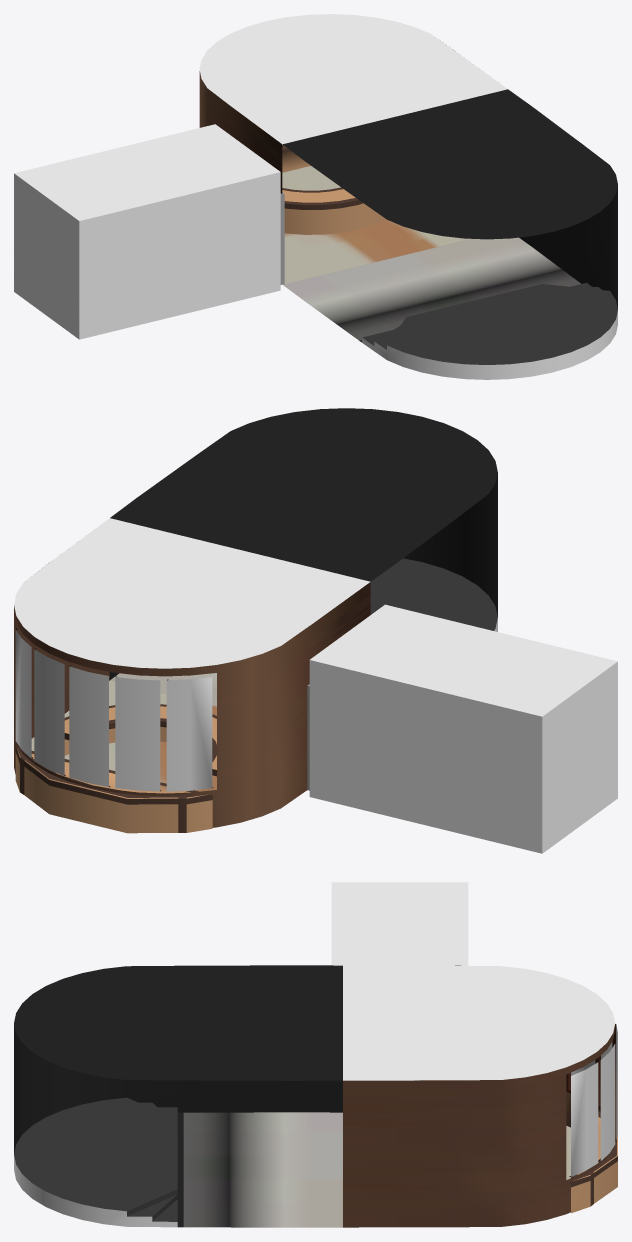
The model's file is newnewstation 1.fbx.
The picture shows the model from 3 angles, top to bottom: view 1: azimuth 30°, elevation 25°; view 2: azimuth 150°, elevation 25°; view 3: azimuth 270°, elevation 25°; orthographic projection. The views are drawn at different scales.
Visible parts, largest first — view 1: Building, HallWay, FilmFloor, DeskFloor, FilmWall, FrontDesk, DeskWall; view 2: Building, HallWay, DeskWall, BackDesk, FilmWall, FrontDesk, DeskFloor, FilmFloor; view 3: Building, DeskWall, FilmFloor, FilmWall, HallWay, BackDesk.
Boxes of the visible parts, <box> form: Building: <box>199,14,617,379</box>; HallWay: <box>14,124,280,339</box>; FilmFloor: <box>283,237,580,340</box>; DeskFloor: <box>282,166,470,284</box>; FilmWall: <box>519,185,617,308</box>; FrontDesk: <box>282,187,385,234</box>; DeskWall: <box>199,50,454,193</box>; Building: <box>14,408,497,791</box>; HallWay: <box>309,604,617,853</box>; DeskWall: <box>14,562,370,827</box>; BackDesk: <box>15,747,212,833</box>; FilmWall: <box>109,472,497,680</box>; FrontDesk: <box>64,704,216,776</box>; DeskFloor: <box>31,680,216,791</box>; FilmFloor: <box>110,673,216,706</box>; Building: <box>14,965,617,1227</box>; DeskWall: <box>343,965,615,1227</box>; FilmFloor: <box>183,1112,342,1227</box>; FilmWall: <box>14,1024,342,1153</box>; HallWay: <box>331,882,468,965</box>; BackDesk: <box>570,1111,617,1213</box>.
Bounding box in the file's own units: 1151 × 356 × 1325.
